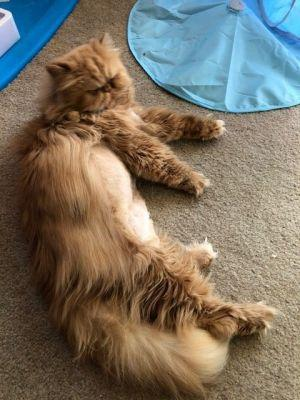persian: (46, 29, 143, 123)
